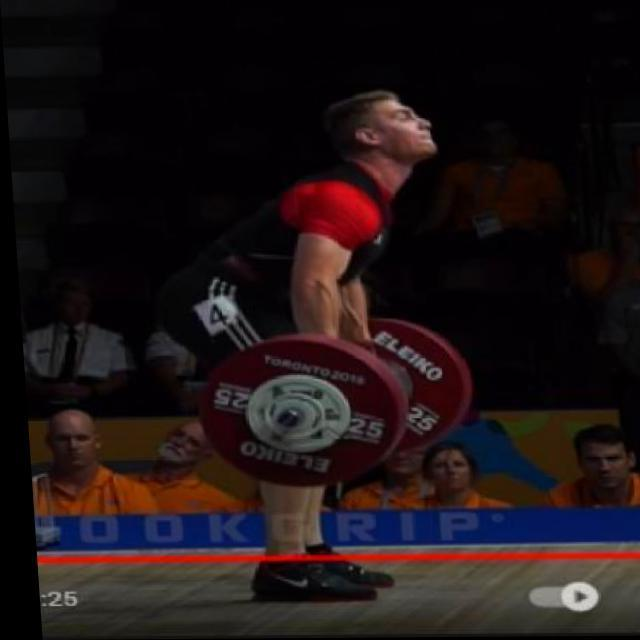barbell: (189, 331, 405, 496)
